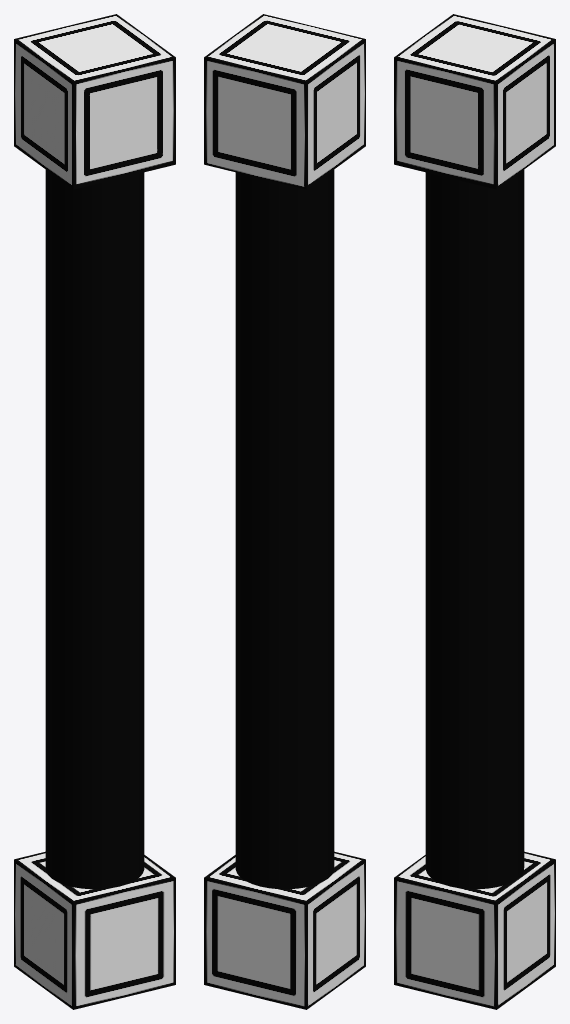
The model's file is VerticalRail.obj.
3 views of the same model, side by side, from view 1: azimuth 30°, elevation 25°; view 2: azimuth 150°, elevation 25°; view 3: azimuth 330°, elevation 25° (orthographic).
Parts seen in each view (by area): view 1: 円柱; view 2: 円柱; view 3: 円柱.
Boxes of the visible parts, x1=… form: 円柱: x1=14, y1=14, x2=175, y2=1009; 円柱: x1=204, y1=14, x2=365, y2=1009; 円柱: x1=394, y1=14, x2=555, y2=1009.
Size of the model in its own units: 0.12 by 1.04 by 0.12.
